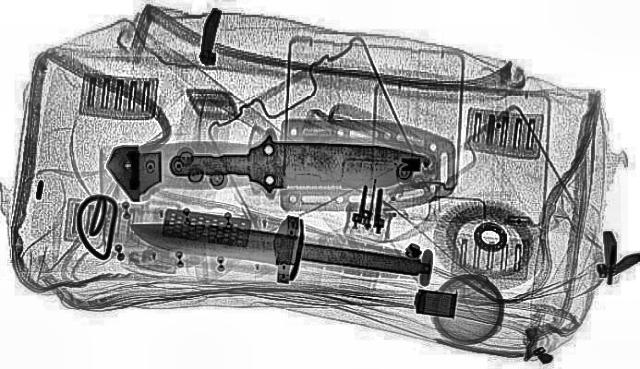Knife: (116, 199, 446, 297), (166, 130, 432, 196)
